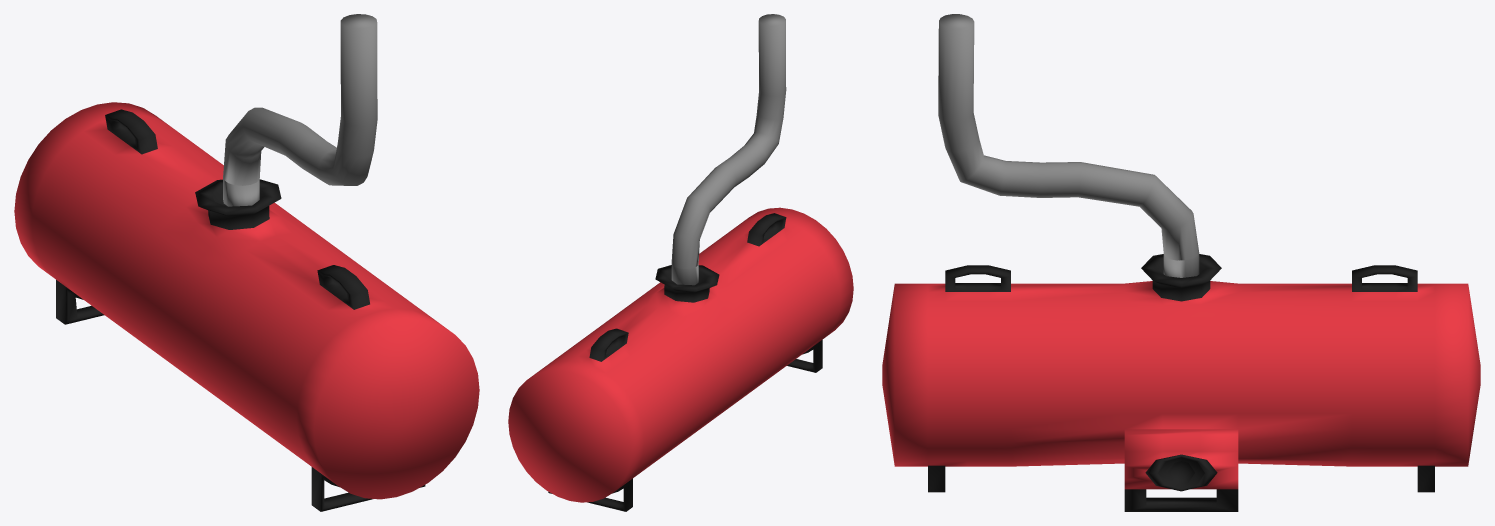
Rendered from GastankHolder.fbx.
3 views of the same model, side by side, from view 1: azimuth 30°, elevation 25°; view 2: azimuth 150°, elevation 25°; view 3: azimuth 270°, elevation 25° (orthographic). The views are drawn at different scales.
Visible parts, largest first — view 1: Cylinder.001, Cylinder.002; view 2: Cylinder.001, Cylinder.002; view 3: Cylinder.001, Cylinder.002.
Boxes of the visible parts, <box> form: Cylinder.001: <box>14,102,479,511</box>; Cylinder.002: <box>223,14,377,206</box>; Cylinder.001: <box>508,207,853,511</box>; Cylinder.002: <box>671,14,786,285</box>; Cylinder.001: <box>882,254,1480,511</box>; Cylinder.002: <box>938,14,1199,277</box>.
Size of the model in its own units: 248 by 539 by 653.
